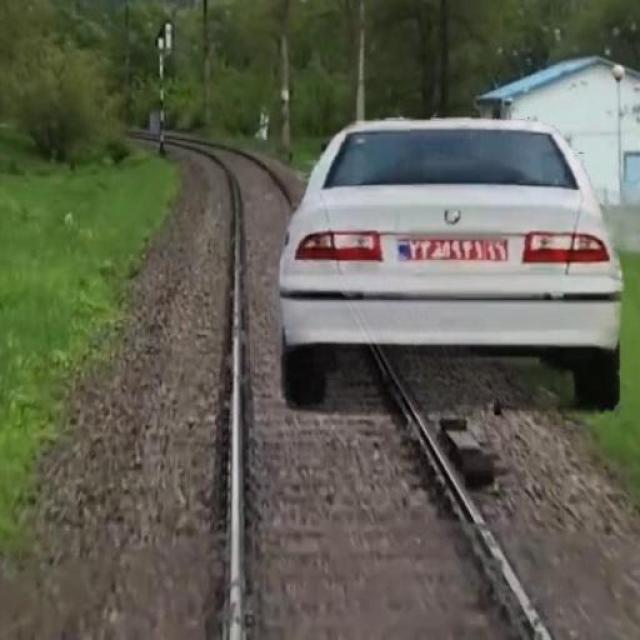vehicle: (274, 108, 627, 412)
